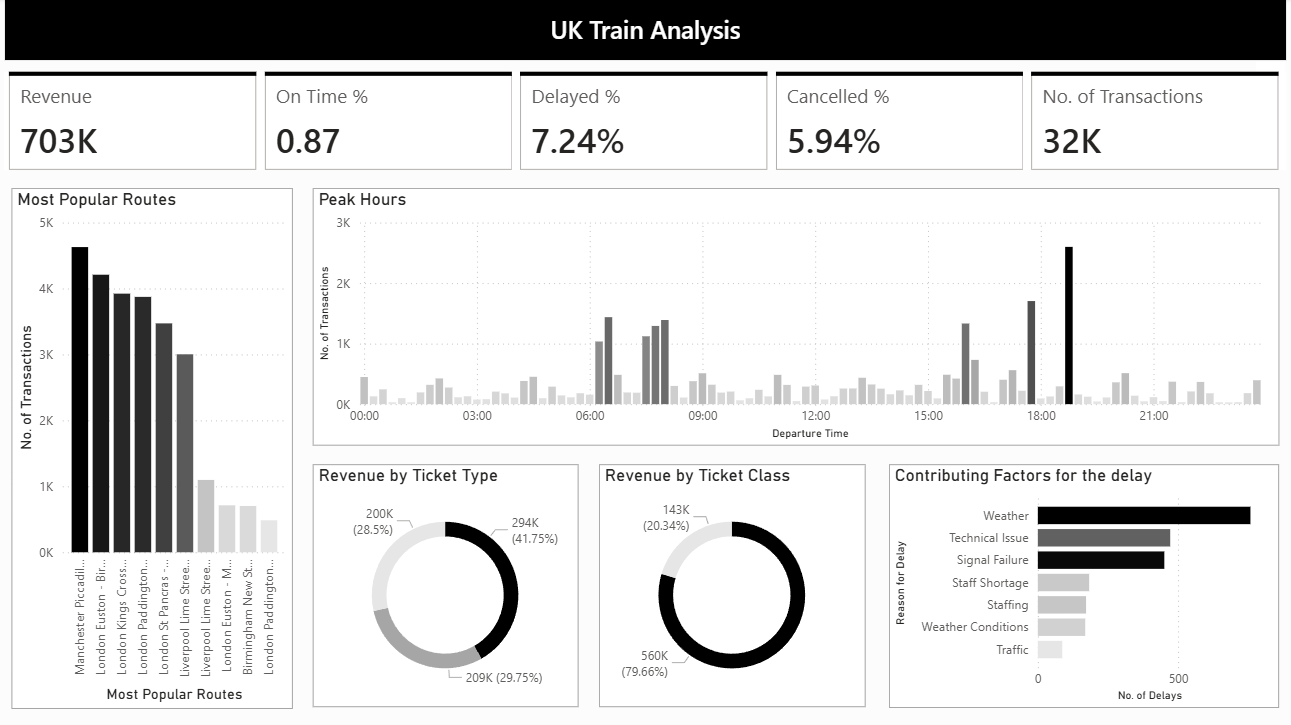

Layout of this report page (visuals, bound fields, positions):
{"tool":"powerbi","page":{"name":"Page 1","canvas":[1280,720],"ordinal":0},"visuals":[{"type":"columnChart","title":"Most Popular Routes","fields":{"Category":["railway.Most Popular Routes"],"Y":["Measures List.No. of Transactions"]},"box":[21.5,185.4,274.9,509.6],"z":0},{"type":"columnChart","title":"Peak Hours","fields":{"Y":["Measures List.No. of Transactions"],"Category":["railway.Departure Time"]},"box":[316.1,185.4,945.7,251.6],"z":1},{"type":"donutChart","fields":{"Y":["Measures List.Revenue"],"Category":["railway.Ticket Class"]},"box":[596.4,456.7,260.6,237.3],"z":2},{"type":"donutChart","fields":{"Y":["Measures List.Revenue"],"Category":["railway.Ticket Type"]},"box":[316.1,456.7,259.7,237.3],"z":3},{"type":"barChart","title":"Contributing Factors for the delay","fields":{"Y":["Measures List.No. of Delays"],"Category":["railway.Reason for Delay"]},"box":[880.3,456.7,381.5,238.2],"z":4},{"type":"shape","box":[15.2,0,1254.7,60.7],"z":5},{"type":"cardVisual","fields":{"Data":["Measures List.Revenue","Measures List.On Time %","Measures List.Delayed %","Measures List.Cancelled %","Measures List.No. of Transactions"]},"box":[15.2,71.8,1254.7,96.1],"z":6}]}

Visuals, with their boxes in screenshot pixels (x1, y1, x2, y2), scaled from the page's 1280x720 canvas onto the 1291x725 screenshot:
"Most Popular Routes" columnChart: [22, 187, 299, 700]
"Peak Hours" columnChart: [319, 187, 1273, 440]
donutChart - Measures List.Revenue x railway.Ticket Class: [602, 460, 864, 699]
donutChart - Measures List.Revenue x railway.Ticket Type: [319, 460, 581, 699]
"Contributing Factors for the delay" barChart: [888, 460, 1273, 700]
shape: [15, 0, 1281, 61]
cardVisual - Measures List.Revenue x Measures List.On Time %: [15, 72, 1281, 169]
